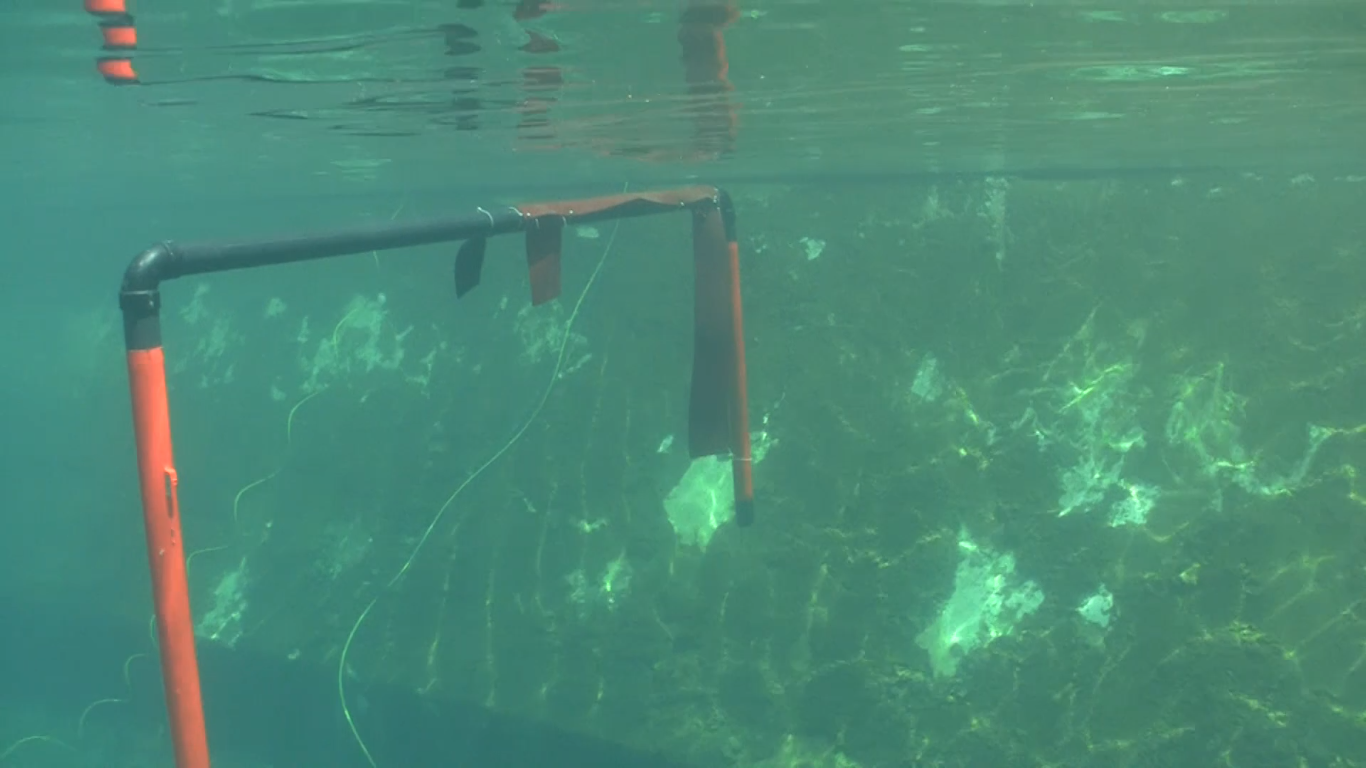gate: (112, 181, 761, 764)
